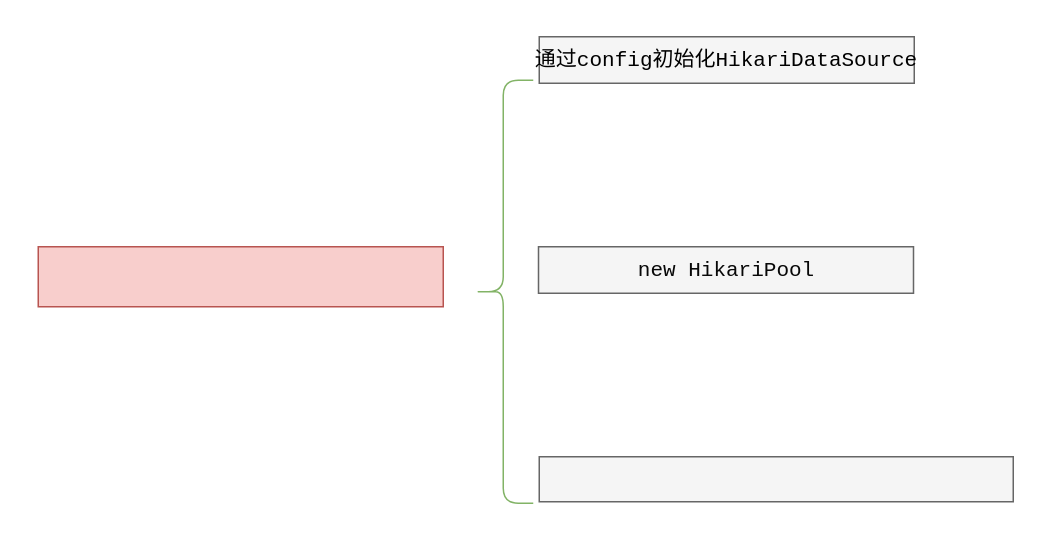
This 1040x539 diagram has some shape labels left out. The shapes that lost their labels are listed below. From the top down, each one's centre as x and y in pixels, then its label:
At point (240, 276): "new HikariDataSource(HikariConfig)".
At point (775, 478): "sealed = true， 标记连接池已经初始化完成".
